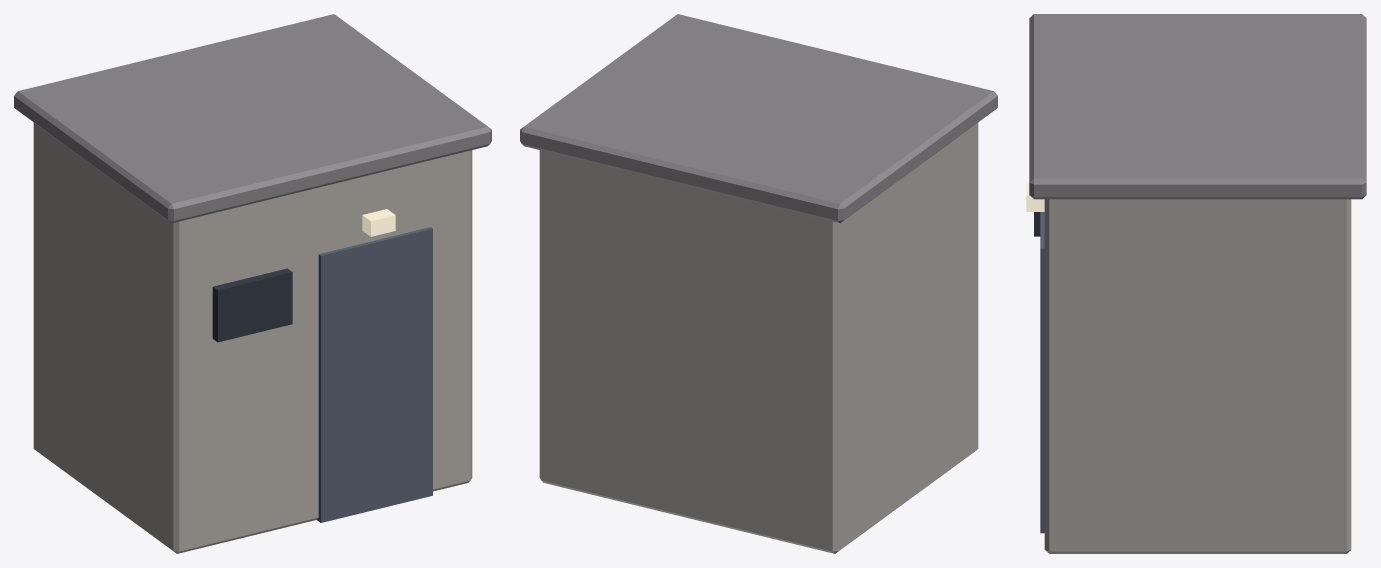
The model's file is roof_hut.glb.
3 renders of one model, left to right at view 1: azimuth 30°, elevation 25°; view 2: azimuth 150°, elevation 25°; view 3: azimuth 270°, elevation 25°, orthographic. The views are drawn at different scales.
Parts seen in each view (by area): view 1: roof_hut; view 2: roof_hut; view 3: roof_hut.
Part boxes in pixels (x1=…): roof_hut: x1=14, y1=14, x2=491, y2=553; roof_hut: x1=520, y1=14, x2=997, y2=553; roof_hut: x1=1026, y1=14, x2=1366, y2=553.
Size of the model in its own units: 2.6 by 2.75 by 2.22.
Materials: 2 (2 with a texture image).
